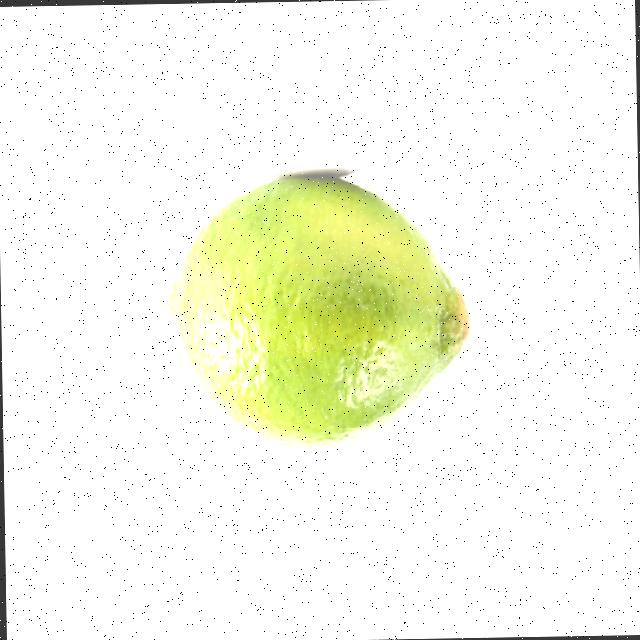Lemon: (160, 170, 473, 450)
